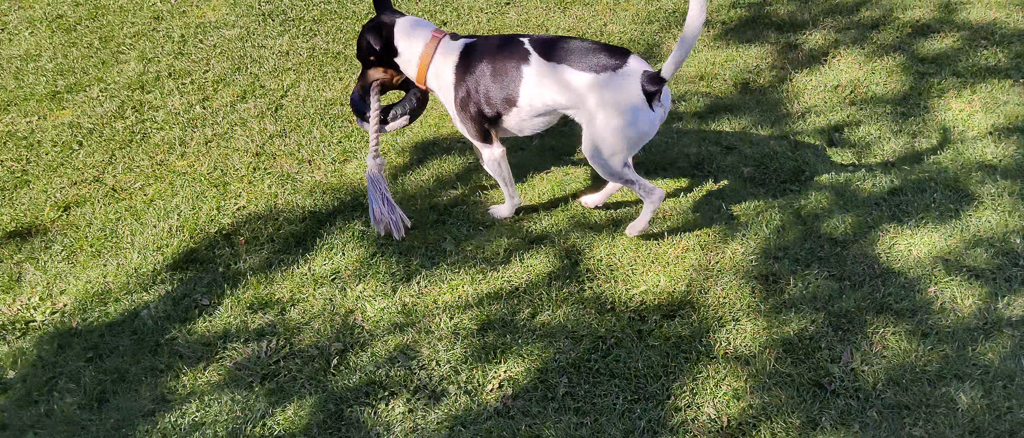Dog: (334, 0, 718, 242)
